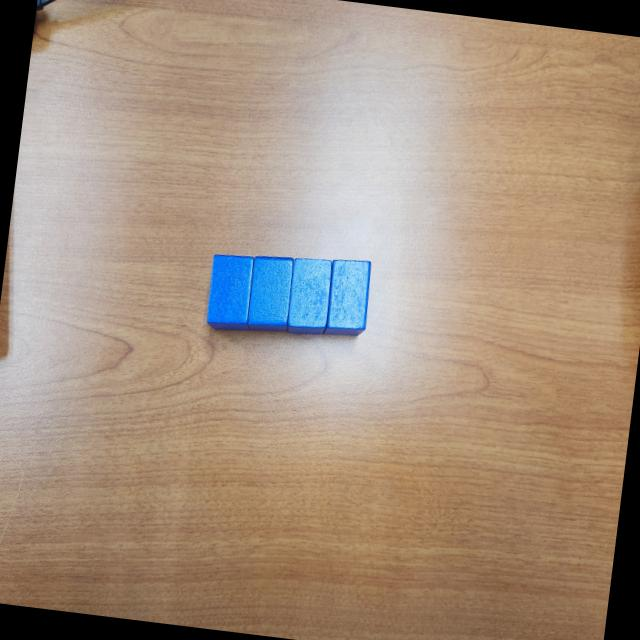blue: (322, 256, 374, 340), (284, 255, 336, 338), (244, 252, 296, 335), (204, 253, 256, 334)
